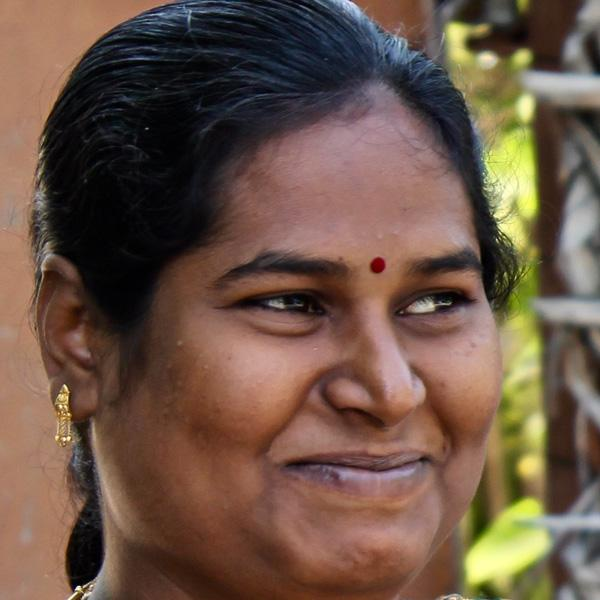Eyes: (231, 273, 331, 336), (390, 271, 479, 334)
